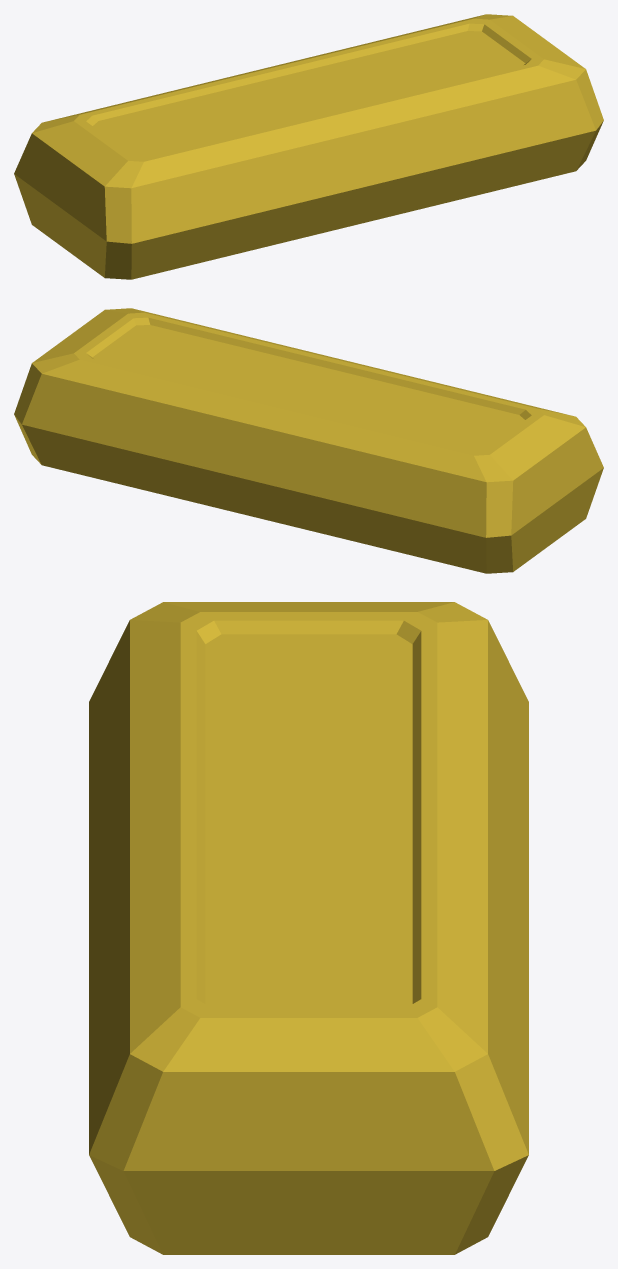
The model's file is GoldIngotC.fbx.
The picture shows the model from 3 angles, top to bottom: view 1: azimuth 30°, elevation 25°; view 2: azimuth 150°, elevation 25°; view 3: azimuth 270°, elevation 25°; orthographic projection. The views are drawn at different scales.
Visible parts, largest first — view 1: GoldIngotC; view 2: GoldIngotC; view 3: GoldIngotC.
Part boxes in pixels (x1,y1,x2,y2): GoldIngotC: [14, 14, 603, 279]; GoldIngotC: [14, 308, 603, 573]; GoldIngotC: [89, 602, 528, 1254].
Bounding box in the file's own units: 62.93 × 13.73 × 24.11.
